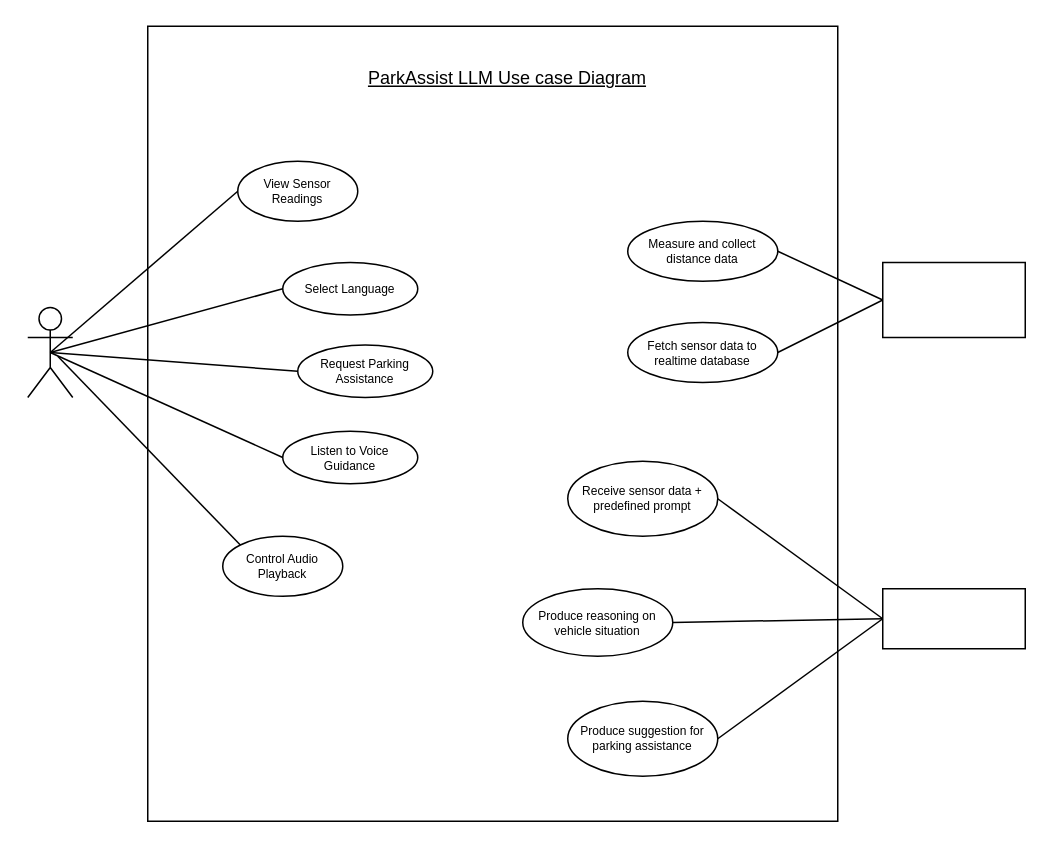
This 1052x848 diagram has some shape labels left out. The shapes that lost their labels are listed below. From the top down, each one's box as (x1, y1, x2, y2) in pixels, then its label:
(881, 261, 1025, 338): ESP32 IoT Device
(26, 306, 73, 398): Driver
(881, 587, 1025, 649): LLM Model
